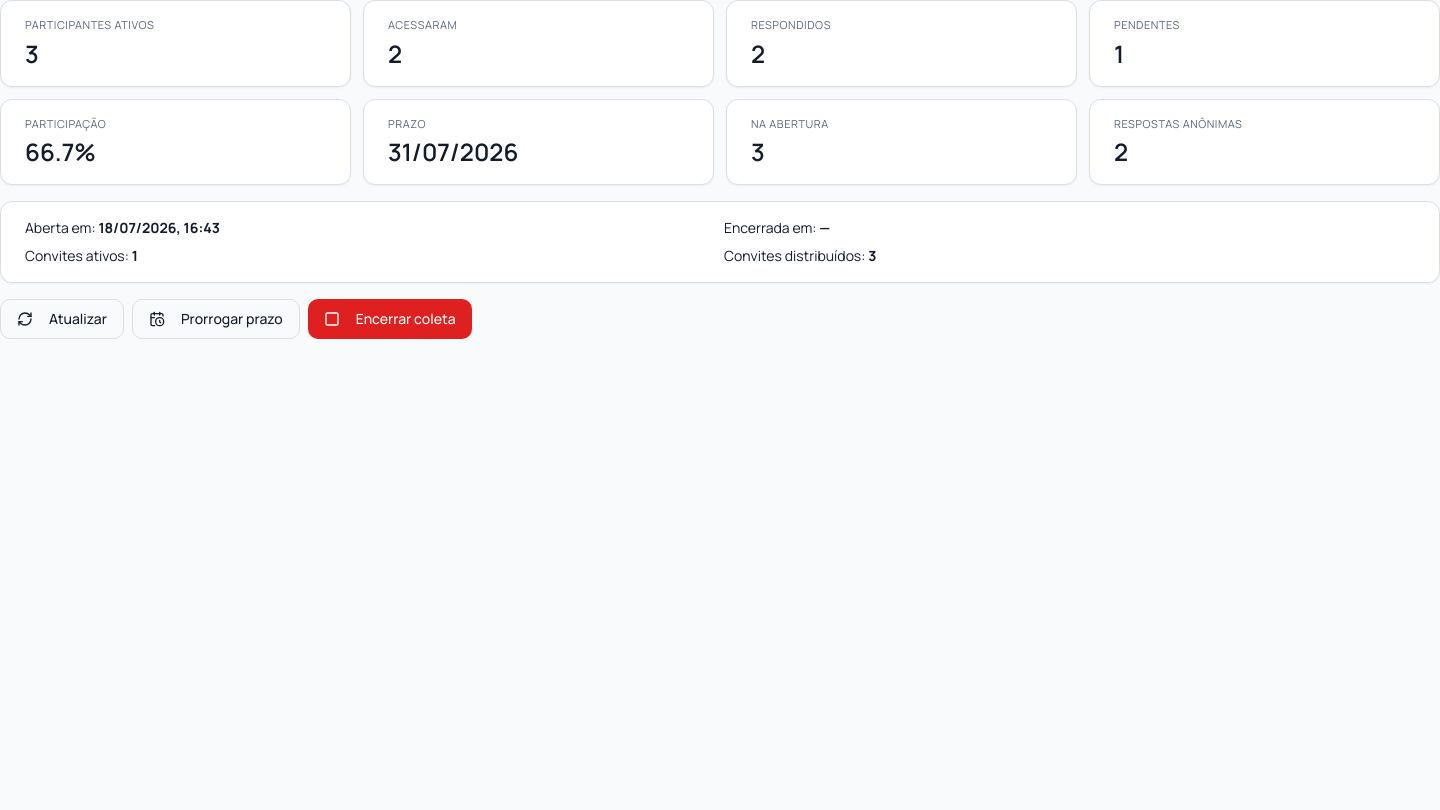
Scenario: PsicoColetaTab › limpa os dados ao cancelar e mantém os diálogos isolados
Click the button "Prorrogar prazo" at (216, 319), box top-left (132, 299), bottom-right (300, 339)
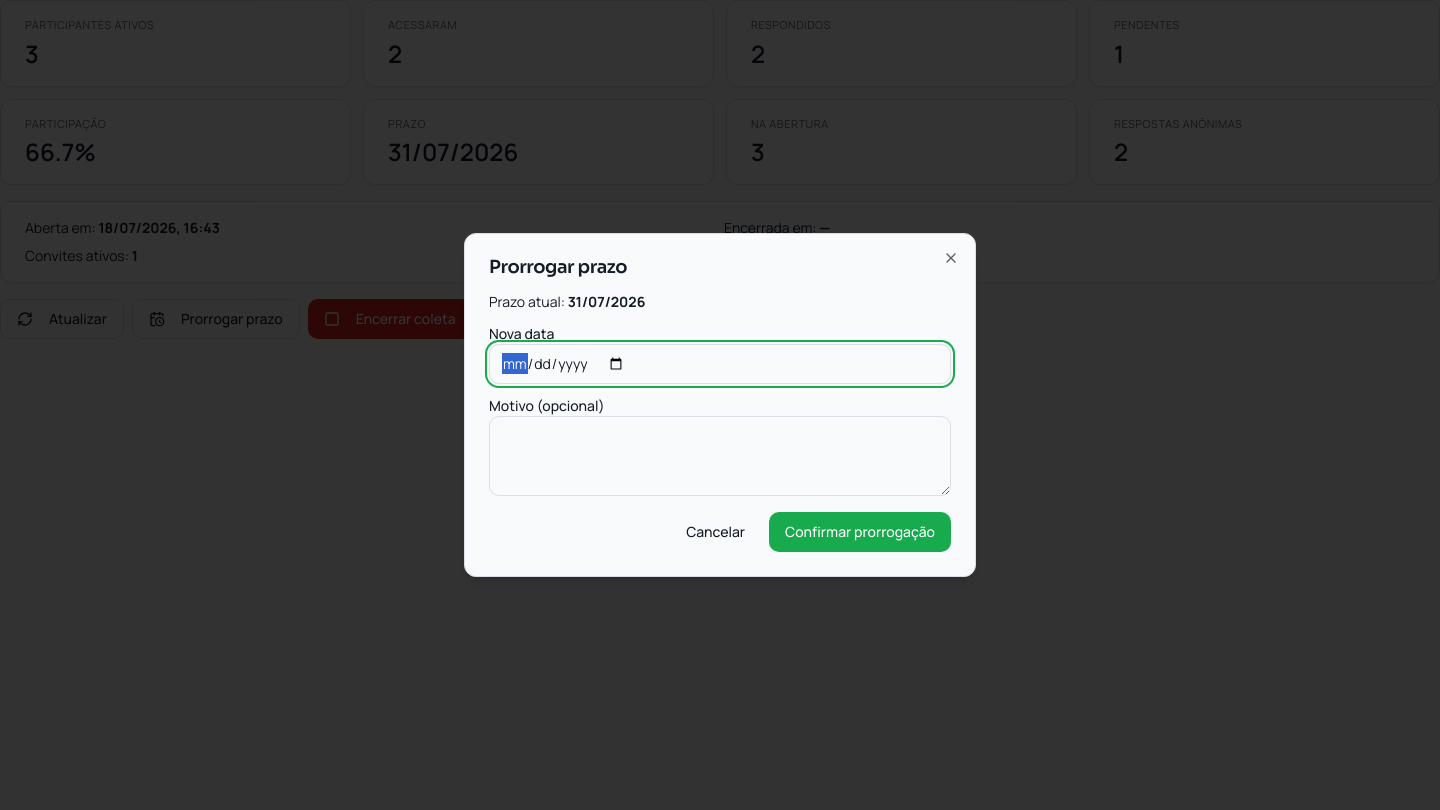
Type "Motivo temporário da prorrogação" into the text box at (720, 456), box top-left (489, 416), bottom-right (951, 496)
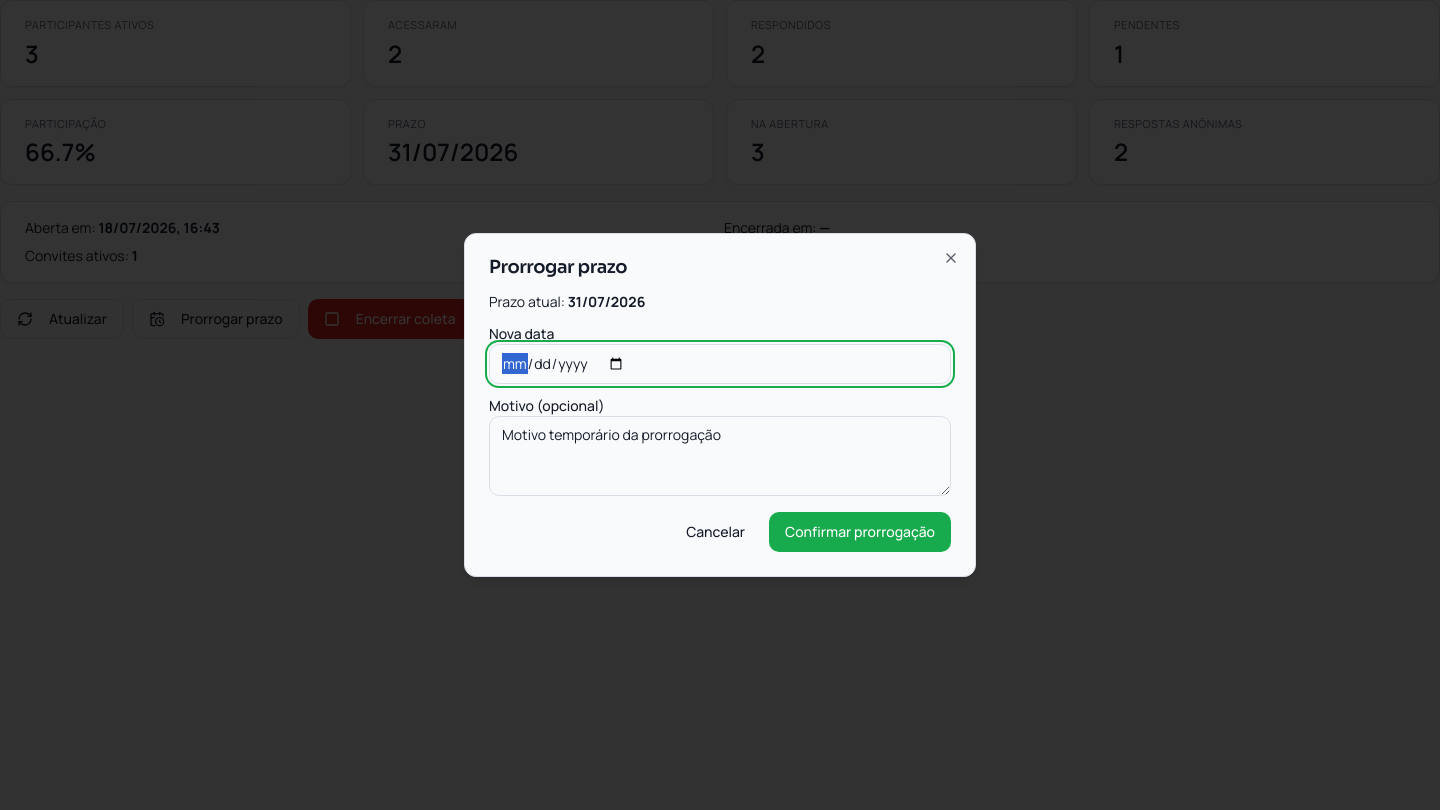
Click the button "Cancelar" at (716, 532), box top-left (670, 512), bottom-right (761, 552)
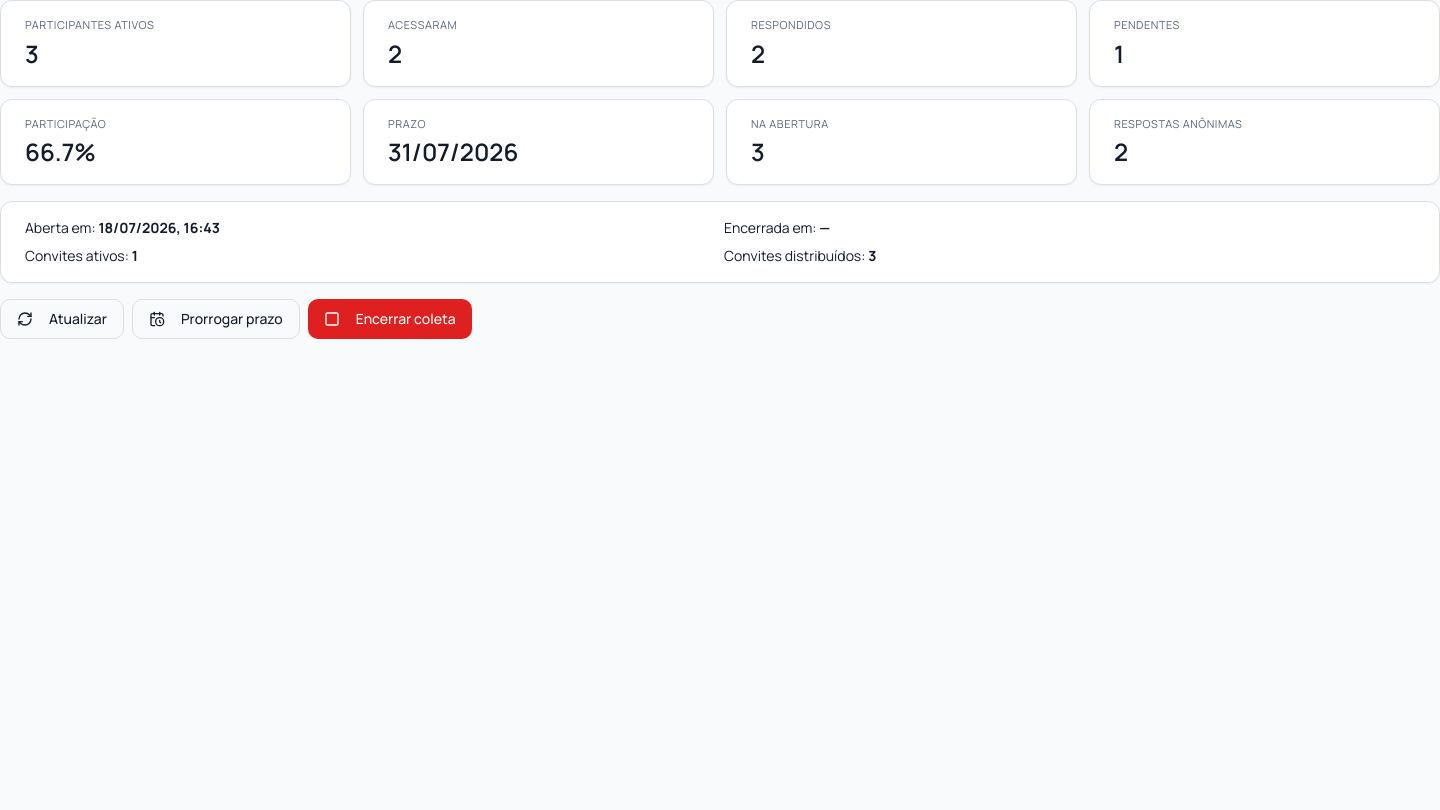
Result: the dialog is gone
Click the button "Encerrar coleta" at (390, 319), box top-left (308, 299), bottom-right (472, 339)
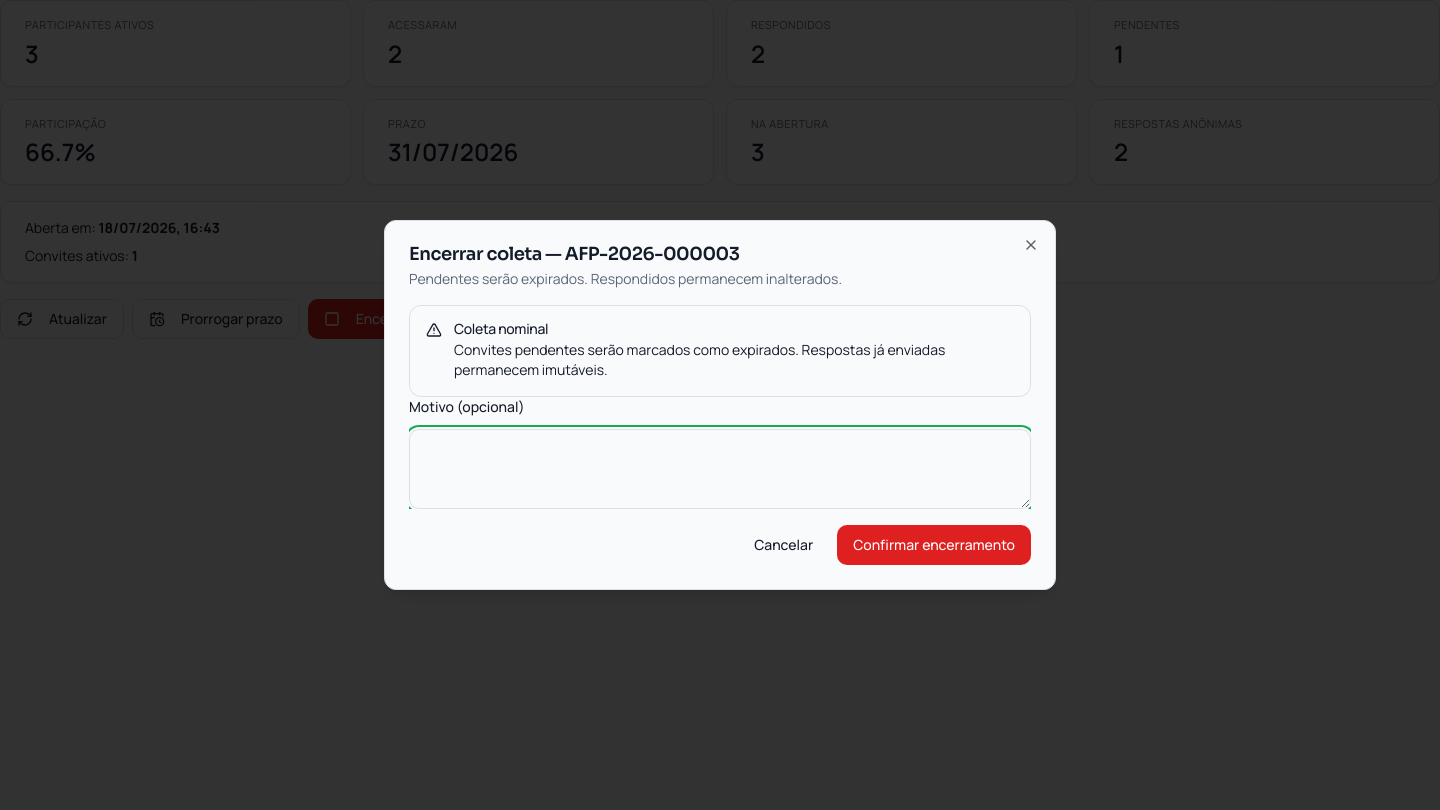
Expected: the text box is empty, top-left (409, 429), bottom-right (1031, 509)
Result: the number of text boxes is 1 at top-left (409, 429), bottom-right (1031, 509)
